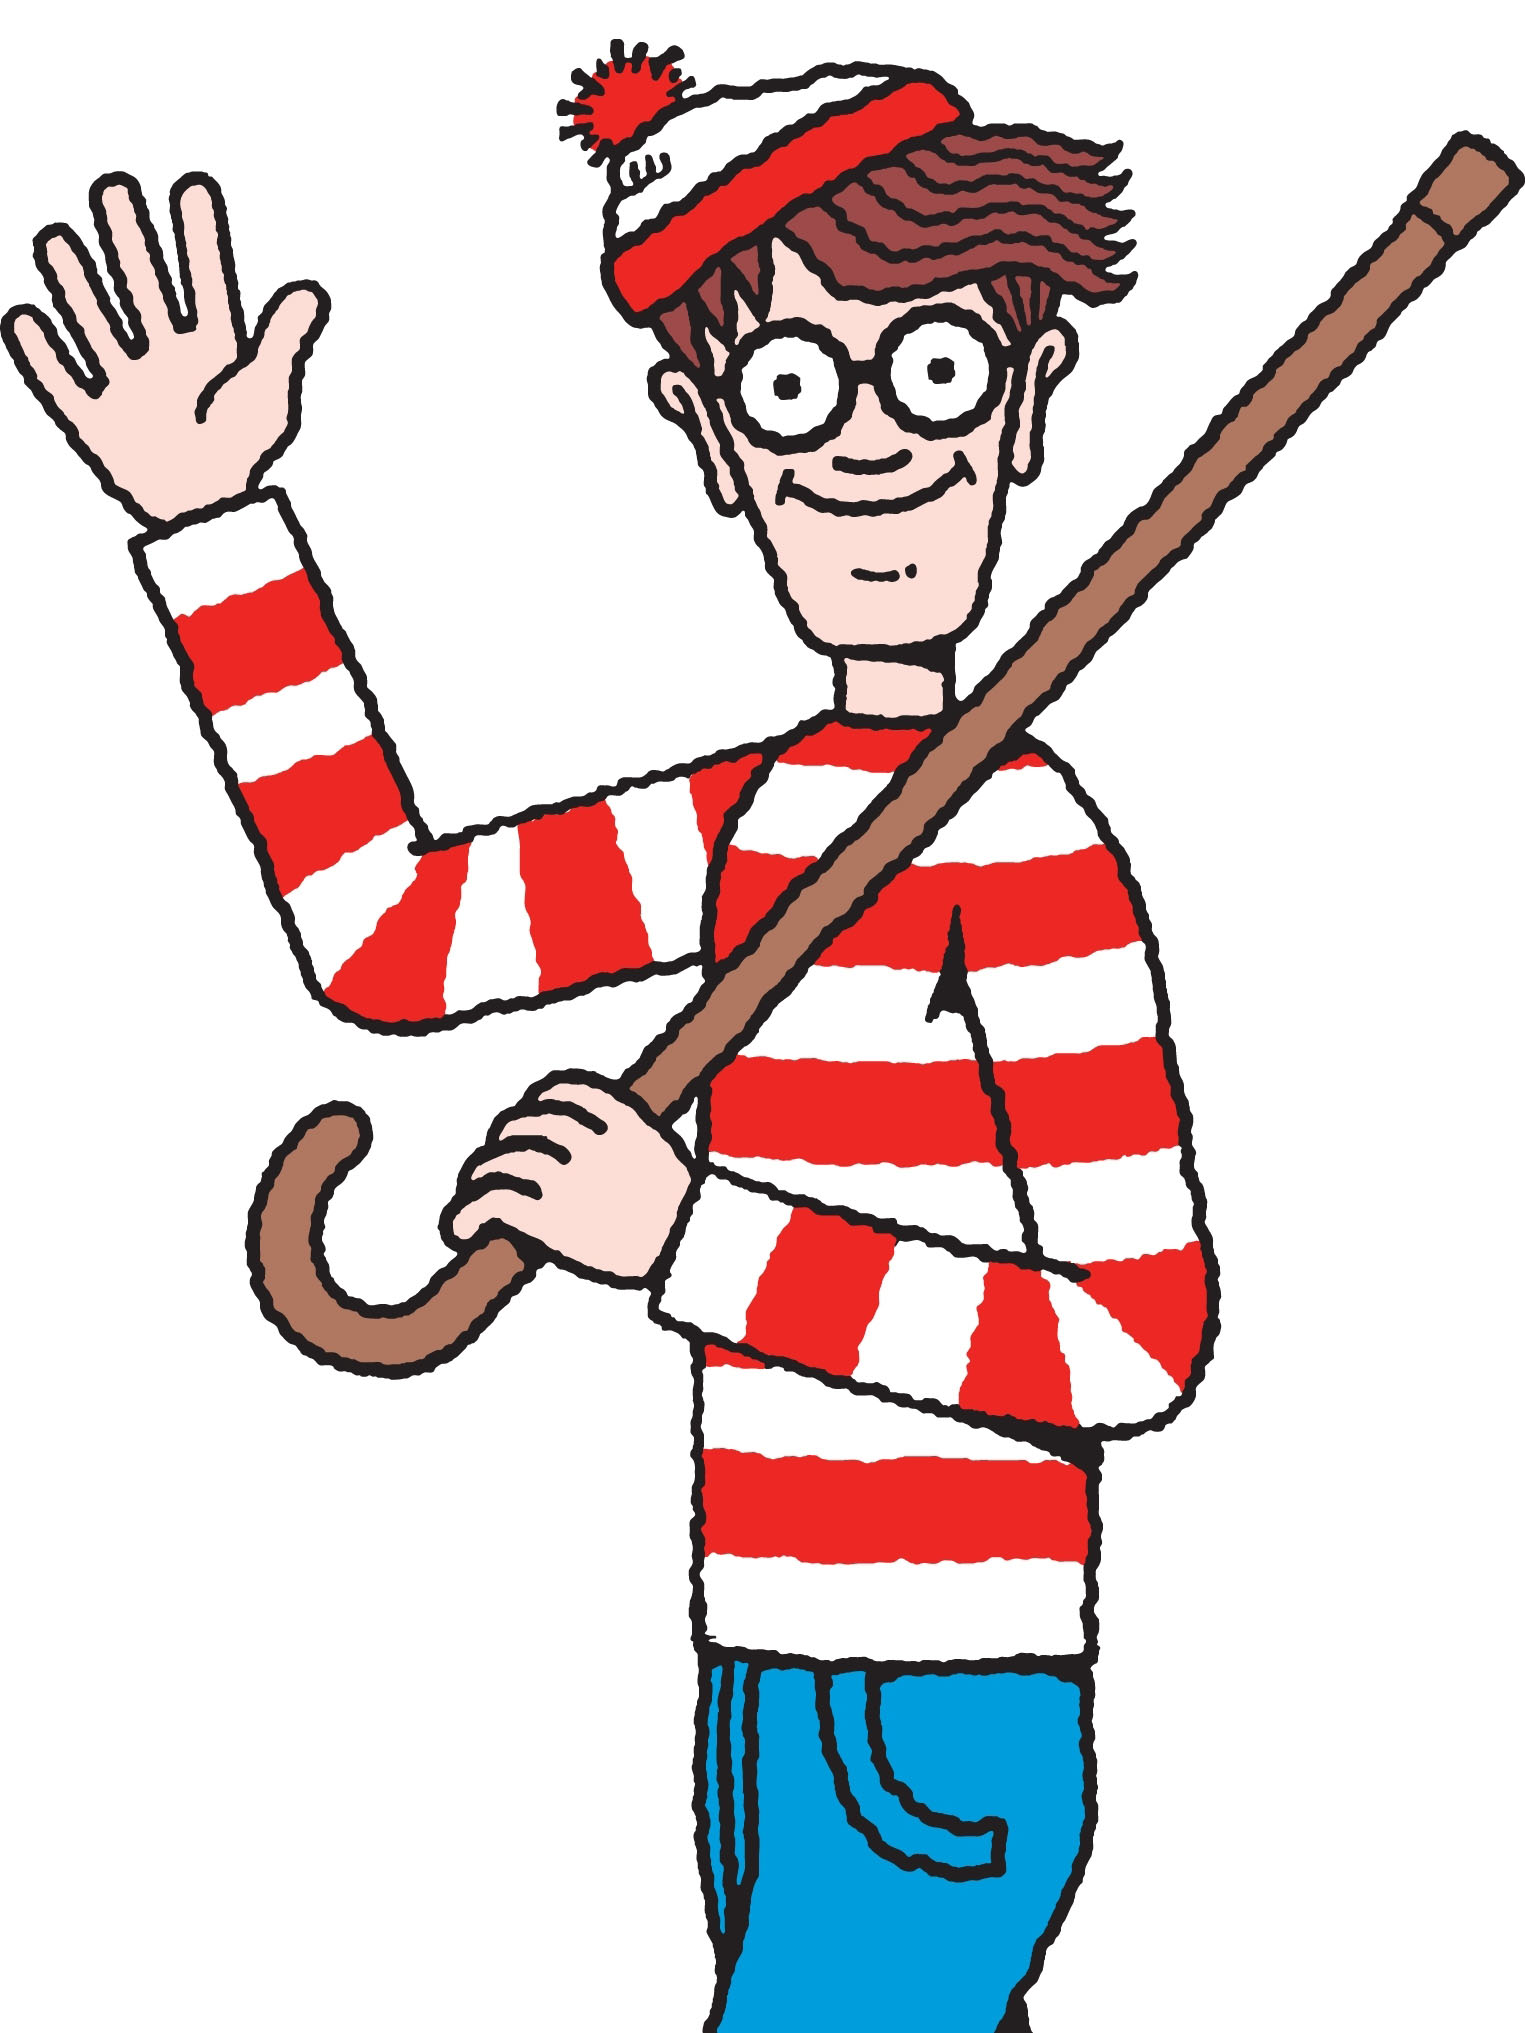waldo: (570, 42, 1097, 654)
